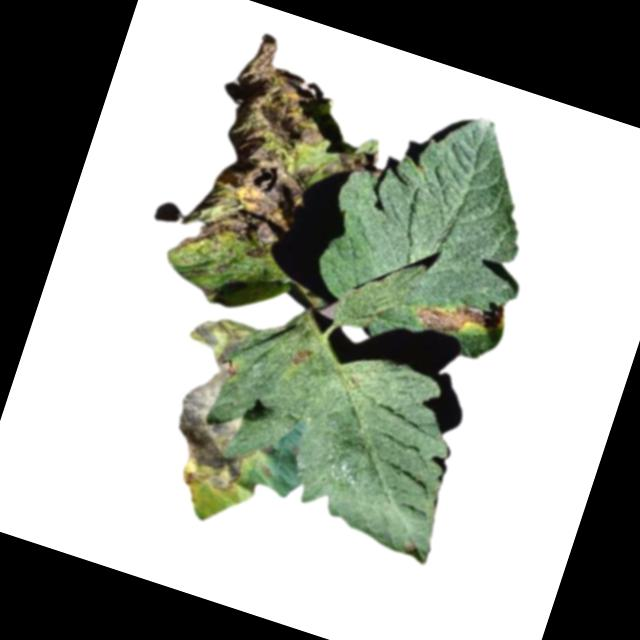Early_blight: (176, 27, 349, 280), (164, 362, 279, 501), (179, 306, 257, 373), (415, 285, 492, 343), (335, 141, 387, 182), (287, 341, 316, 370), (253, 456, 277, 481), (401, 538, 420, 558), (260, 440, 276, 456)
